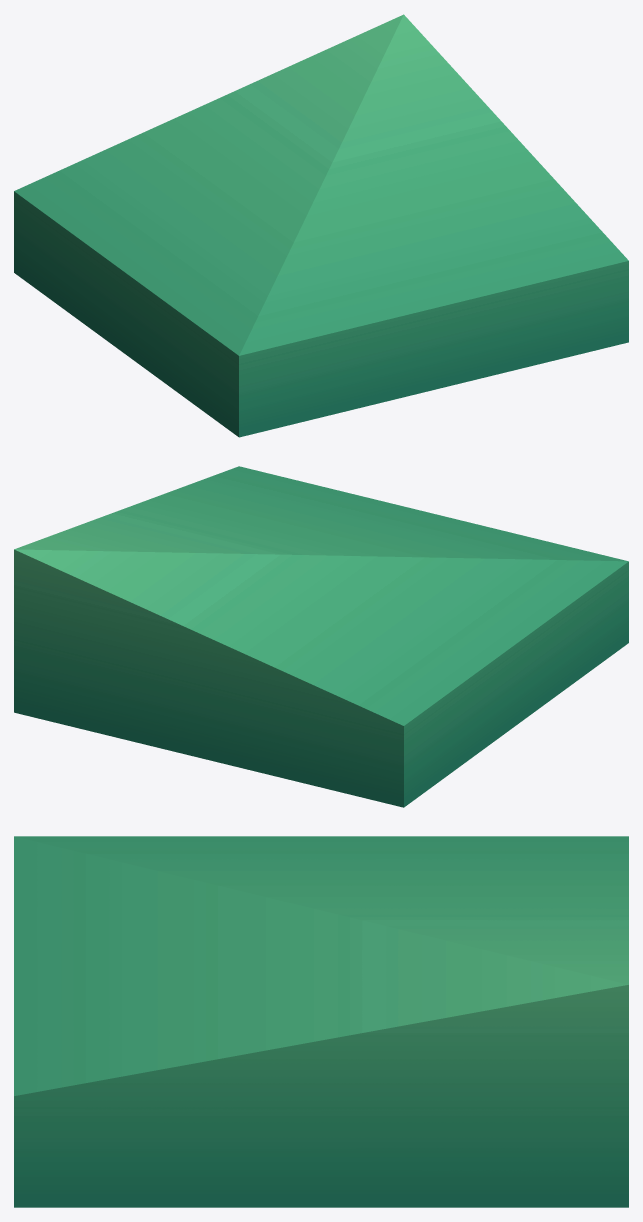
File: kenney-tower-defense-tile-corner-outer.glb
3 renders of one model, top to bottom at view 1: azimuth 30°, elevation 25°; view 2: azimuth 150°, elevation 25°; view 3: azimuth 270°, elevation 25°, orthographic. The views are drawn at different scales.
Visible parts, largest first — view 1: tile-corner-outer; view 2: tile-corner-outer; view 3: tile-corner-outer.
Boxes of the visible parts, x1,y1,x2,y2 form: tile-corner-outer: [14, 14, 628, 437]; tile-corner-outer: [14, 466, 628, 807]; tile-corner-outer: [14, 836, 628, 1207].
Size of the model in its own units: 1 by 0.3999 by 1.
Materials: 1 (1 with a texture image).
